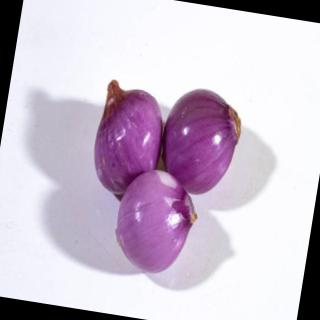Bawang Merah: (105, 163, 206, 284), (86, 76, 174, 208), (154, 81, 249, 202)
